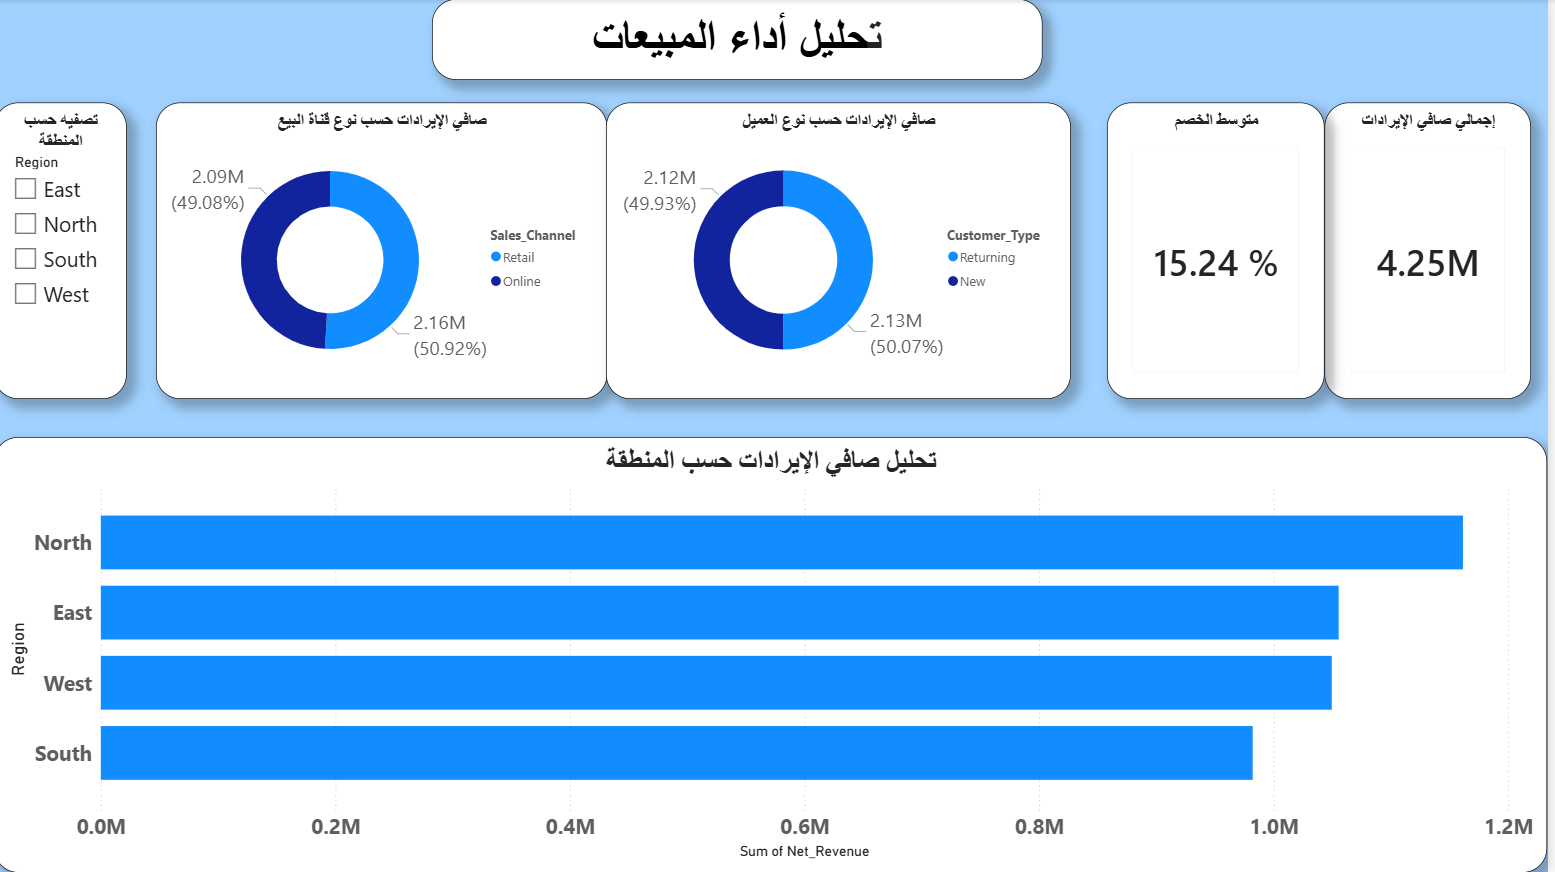

Layout of this report page (visuals, bound fields, positions):
{"tool":"powerbi","page":{"name":"Page ١","canvas":[1600,900],"ordinal":0},"visuals":[{"type":"cardVisual","title":"إجمالي صافي الإيرادات","fields":{"Data":["Sum(sales_data.Net_Revenue)"]},"box":[1370.4,106.3,212.6,305.1],"z":0},{"type":"cardVisual","title":"متوسط الخصم","fields":{"Data":["Avg(sales_data.Discount_Fixed)"]},"box":[1146.3,106.3,224.2,305.1],"z":1000},{"type":"clusteredBarChart","title":"تحليل صافي الإيرادات حسب المنطقة","fields":{"Category":["sales_data.Region"],"Y":["Sum(sales_data.Net_Revenue)"]},"box":[0,450.7,1599.2,448.3],"z":2000},{"type":"donutChart","title":"صافي الإيرادات حسب نوع قناة البيع","fields":{"Category":["sales_data.Sales_Channel"],"Y":["Sum(sales_data.Net_Revenue)"]},"box":[166.4,106.3,464.5,305.1],"z":3000},{"type":"slicer","title":"تصفيه حسب المنطقة","fields":{"Values":["sales_data.Region"]},"box":[0,106.3,136.4,305.1],"z":4000},{"type":"donutChart","title":"صافي الإيرادات حسب نوع العميل","fields":{"Category":["sales_data.Customer_Type"],"Y":["Sum(sales_data.Net_Revenue)"]},"box":[630.9,106.3,478.4,305.1],"z":5000},{"type":"textbox","box":[450.7,0,628.6,83.2],"z":6000}]}

Visuals, with their boxes in screenshot pixels (x1, y1, x2, y2), scaled from the page's 1600x900 canvas onto the 1555x872 screenshot:
"إجمالي صافي الإيرادات" cardVisual: (1332,103,1538,399)
"متوسط الخصم" cardVisual: (1114,103,1332,399)
"تحليل صافي الإيرادات حسب المنطقة" clusteredBarChart: (0,437,1554,871)
"صافي الإيرادات حسب نوع قناة البيع" donutChart: (162,103,613,399)
"تصفيه حسب المنطقة" slicer: (0,103,133,399)
"صافي الإيرادات حسب نوع العميل" donutChart: (613,103,1078,399)
textbox: (438,0,1049,81)
